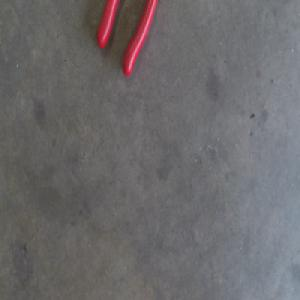Pliers: (98, 0, 159, 81)
